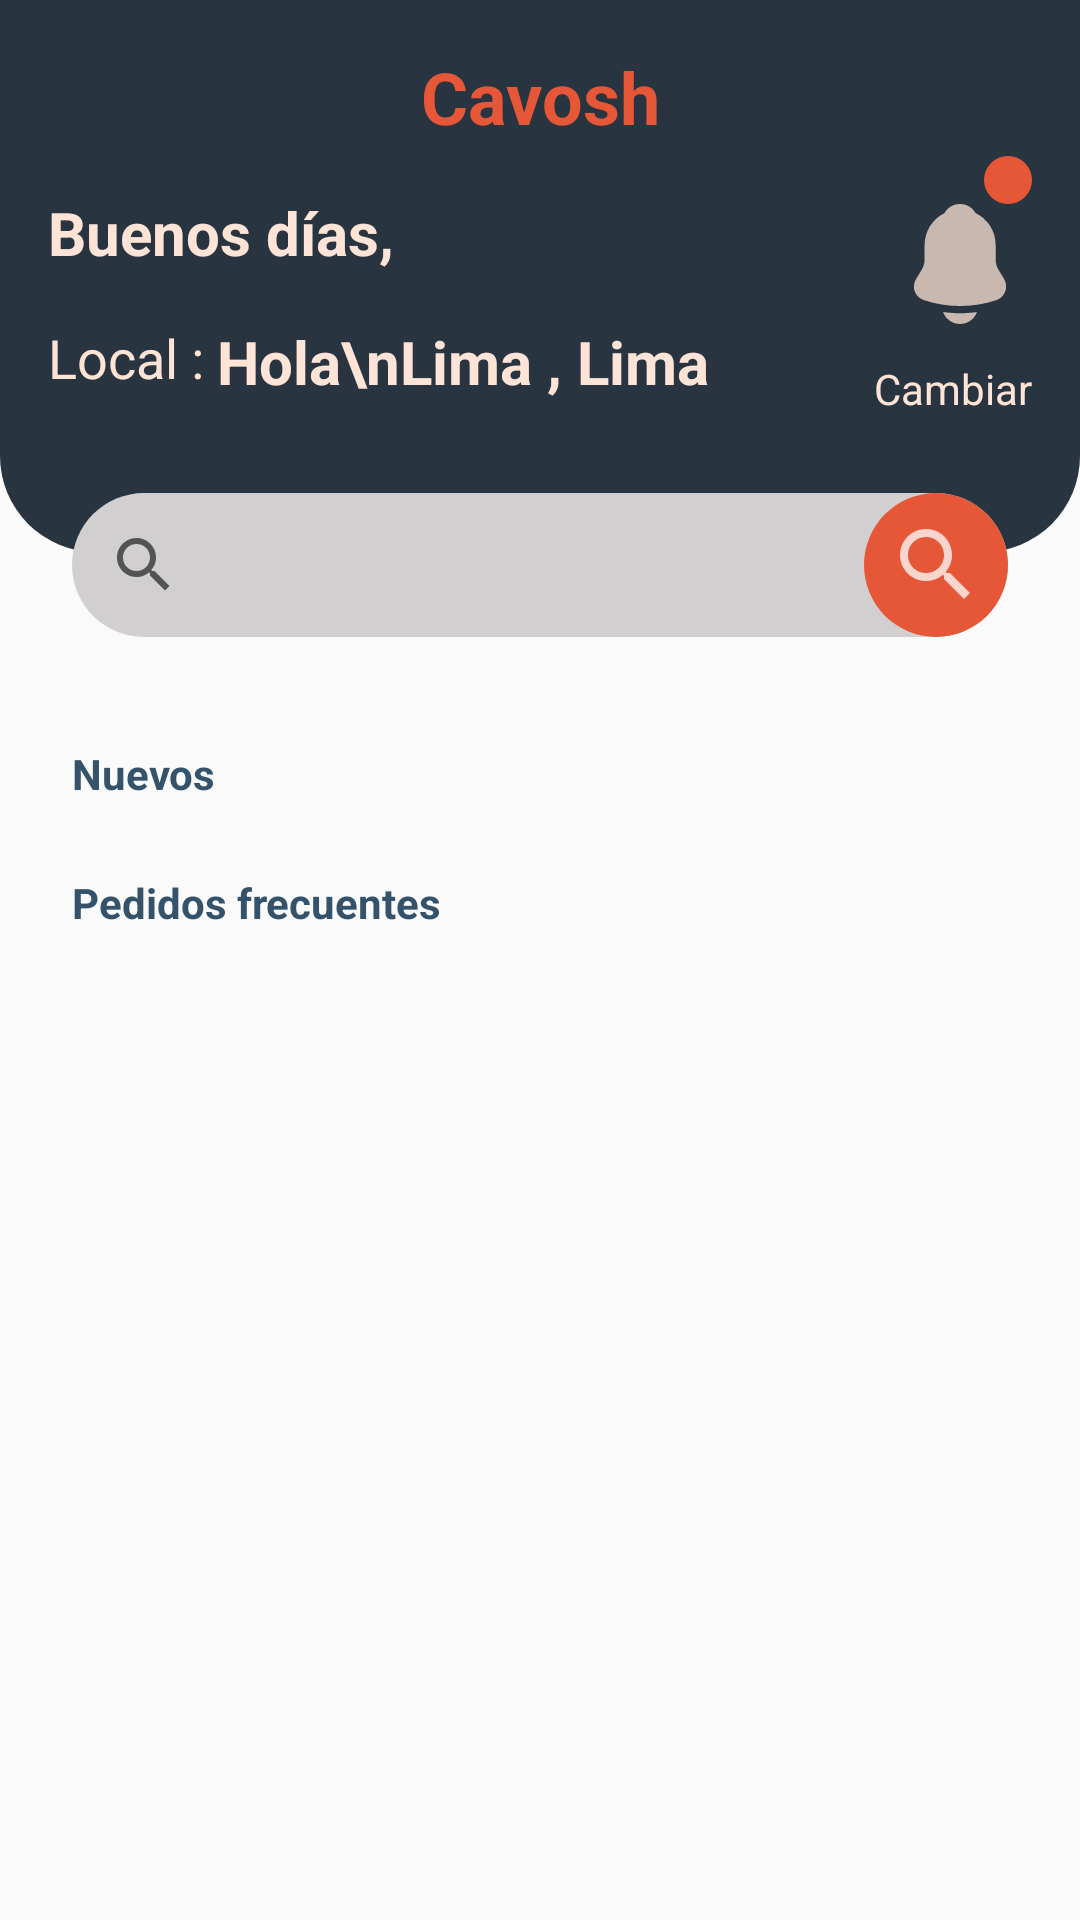

Where to tap for icons on this 1080 x 1920 app screen, as point (x, y):
buscar: point (936, 565)
notificacion: point (960, 264)
